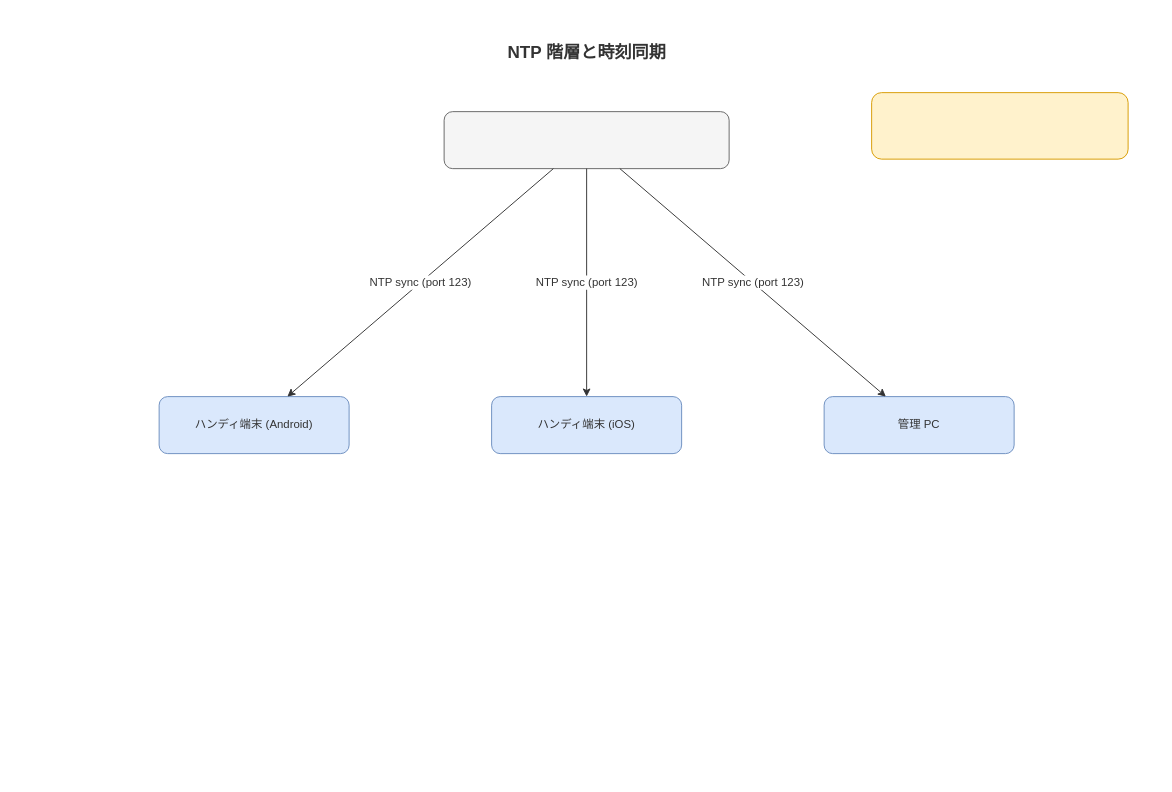
Image size: 1172x792. Some labels were removed from this diagram. Here are the shapes that lost their labels. From the top down, the centre of each, then its label:
At (586,140): "Windows Server NTP".
At (999,125): "CFG-010: max_clock_skew = 5 秒 超過時 ERR-VAL-010 を発行".
